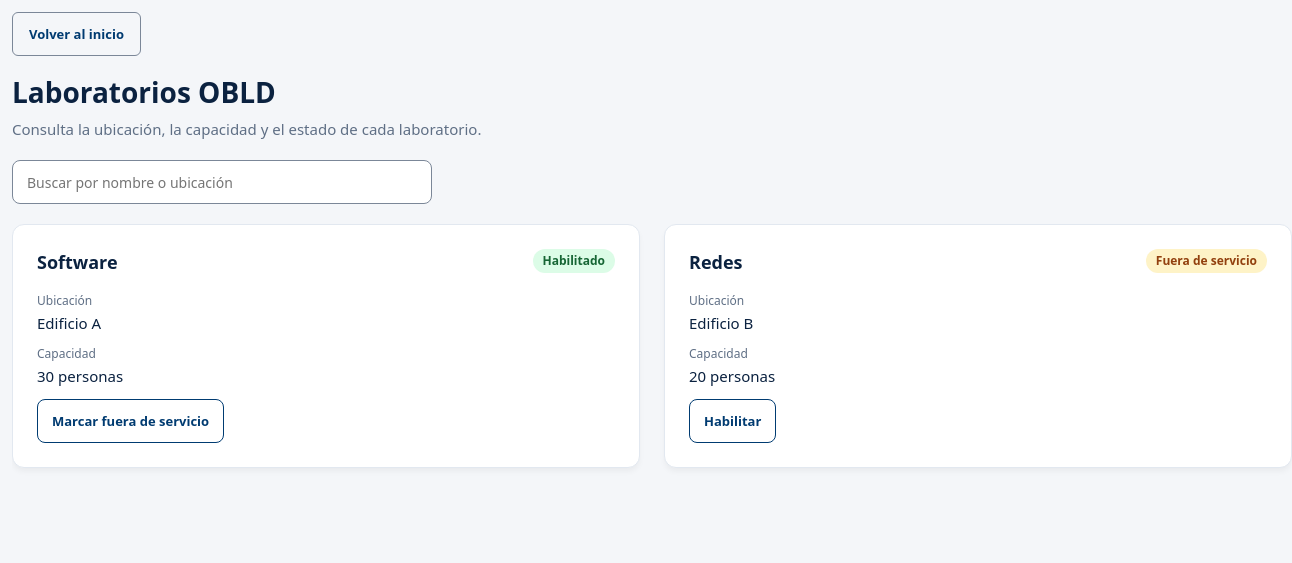
Test: si el servidor responde 403 se avisa y el estado no cambia (AB#113)
Click the button with aria-label "Marcar fuera de servicio: Software": (131, 421) [37,399,224,443]
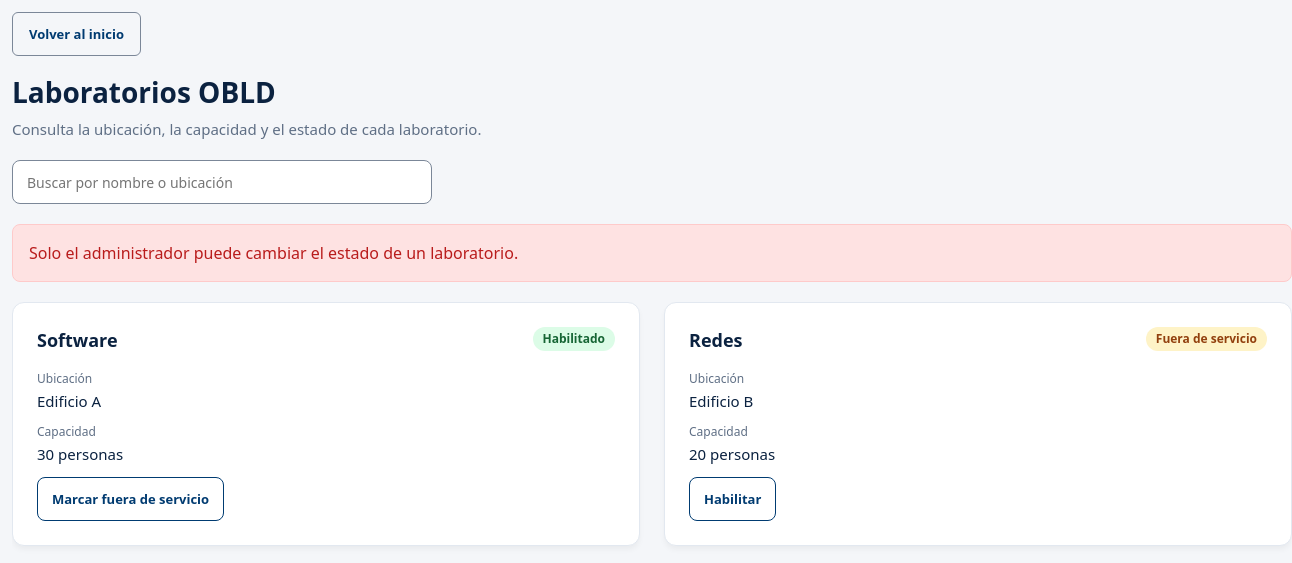
Expected: the text "Habilitado" is shown, [532,327,615,351]
Result: the message shows "Solo el administrador" at [29,242,518,264]
